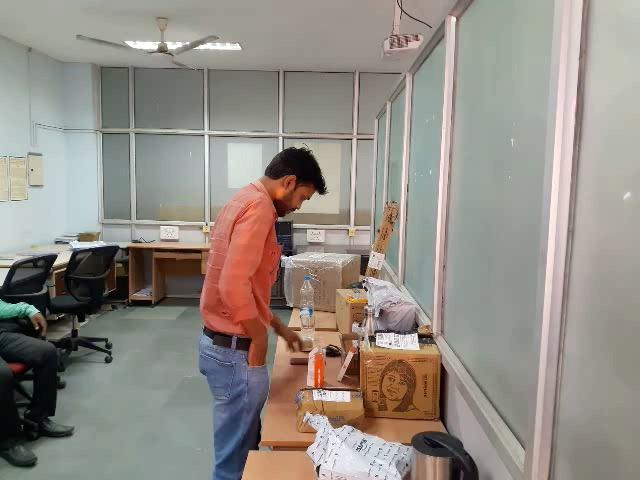shoplifting: (189, 273, 306, 416)
